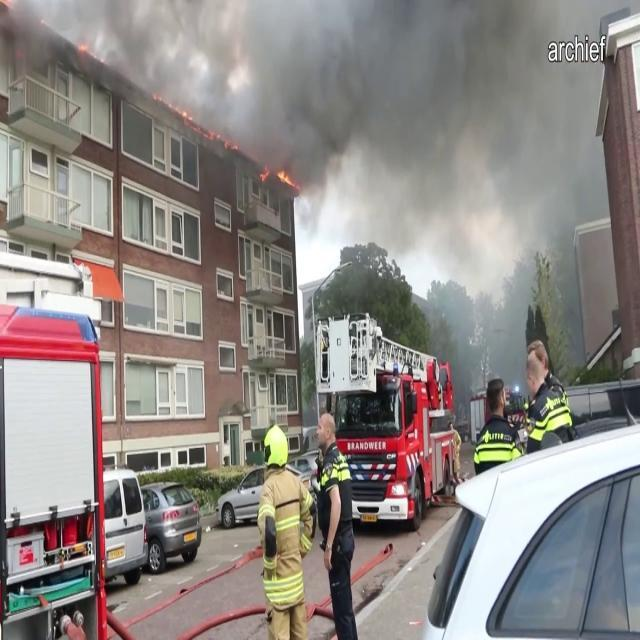Smoke: (257, 0, 614, 231), (0, 0, 255, 148)
